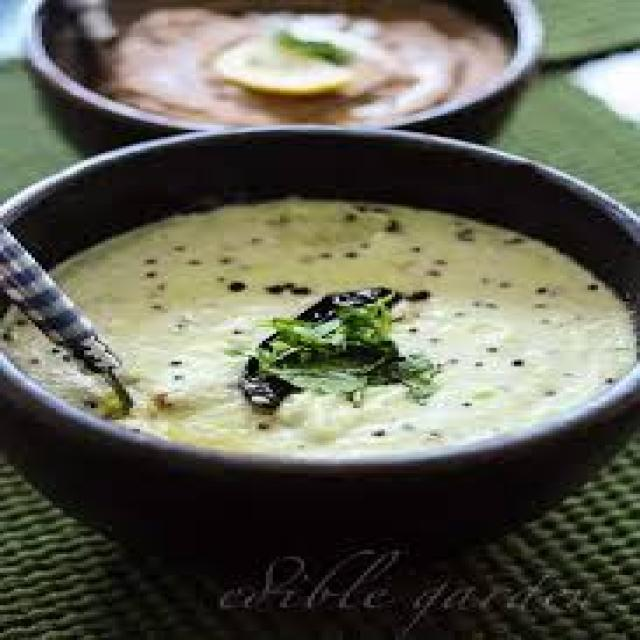WHITE CHUTNEY: (24, 190, 640, 447)
